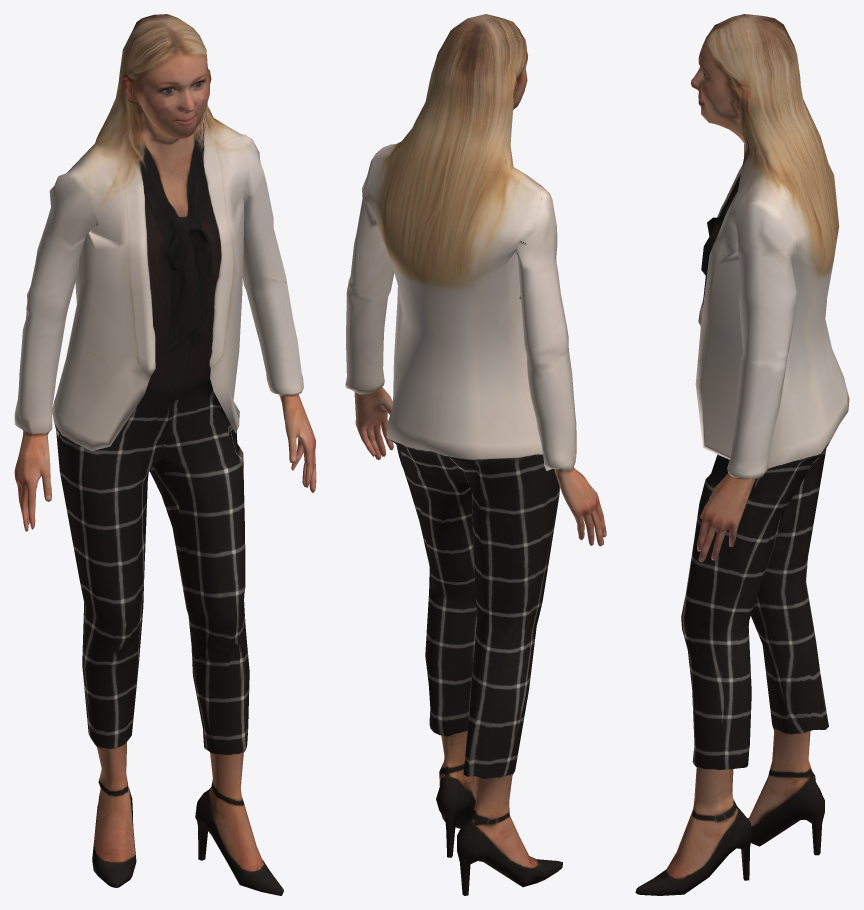
The model's file is Female human.fbx.
The picture shows the model from 3 angles, left to right: view 1: azimuth 30°, elevation 25°; view 2: azimuth 150°, elevation 25°; view 3: azimuth 270°, elevation 25°; orthographic projection.
Parts seen in each view (by area): view 1: Human_female; view 2: Human_female; view 3: Human_female.
Boxes of the visible parts, x1,y1,x2,y2 form: Human_female: (14,14,316,895); Human_female: (345,14,606,895); Human_female: (635,14,849,895).
Bounding box in the file's own units: 58.58 × 178 × 40.9.
1 material, 1 textured.
